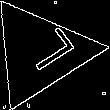L_SW: (8, 25, 73, 80)
